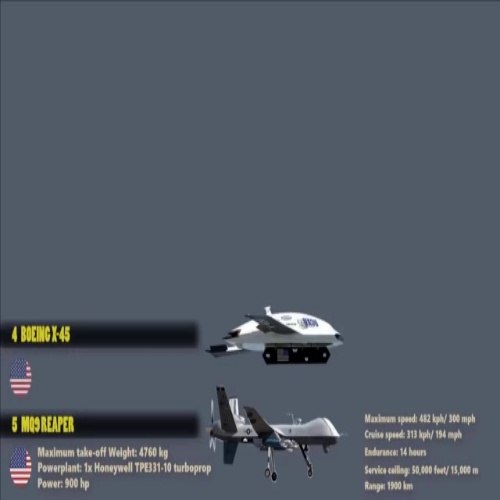uav: (204, 386, 343, 486), (205, 304, 345, 367)
